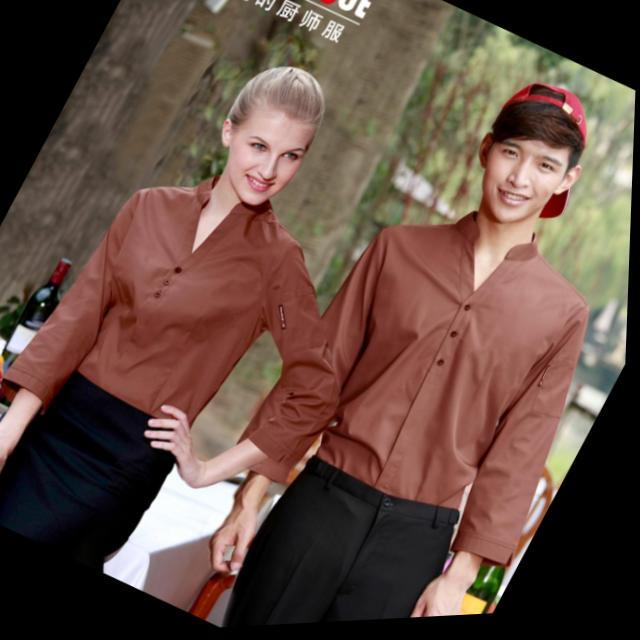Nonhelmet: (472, 78, 587, 230), (216, 63, 327, 209)
